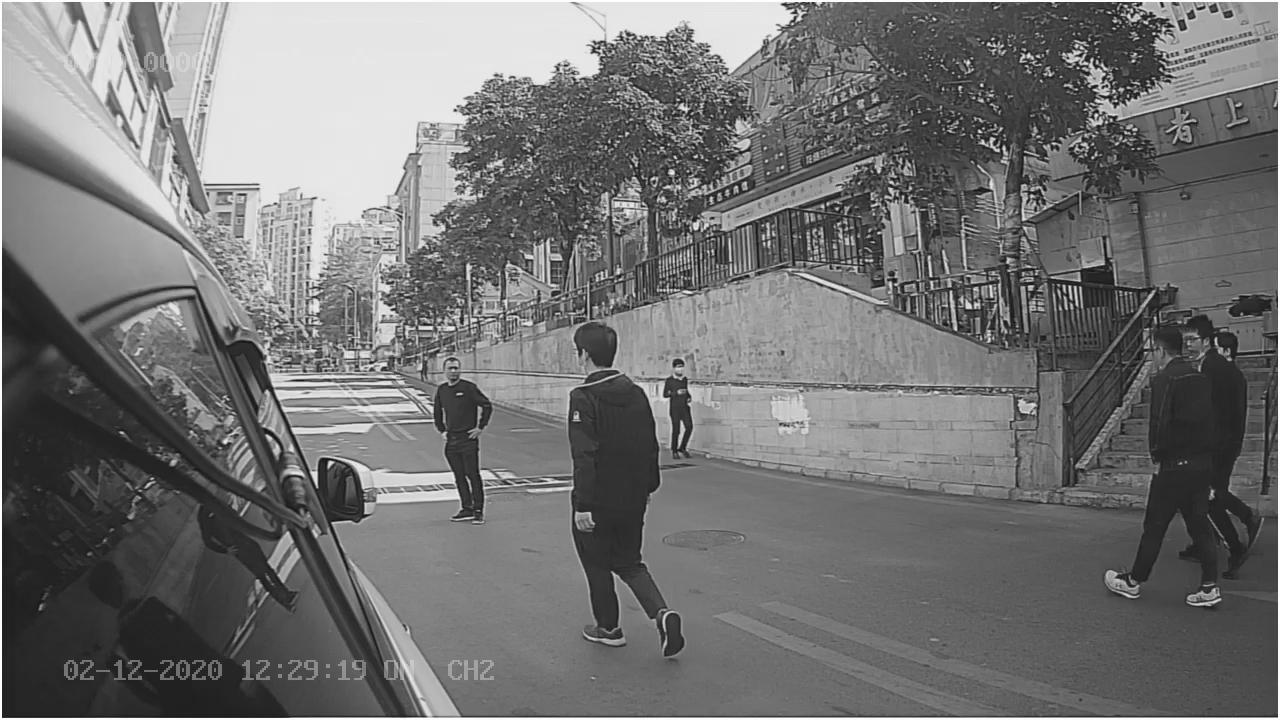person: (551, 315, 700, 666), (420, 355, 509, 534)
